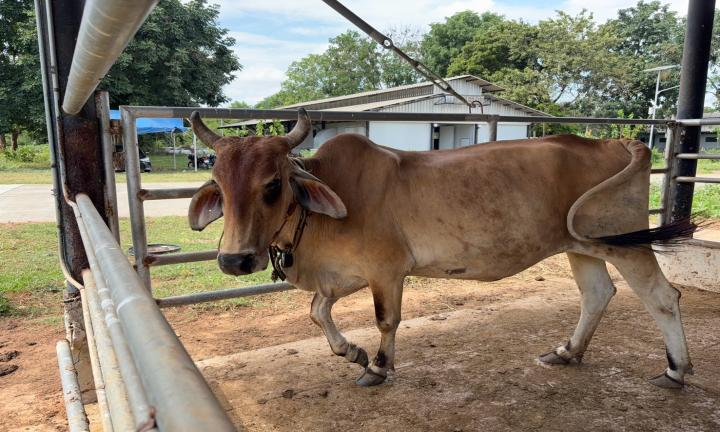Brahman: (189, 107, 696, 387)
